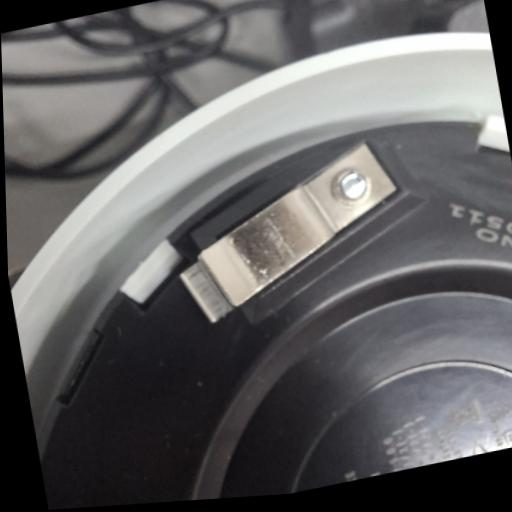yayli: (165, 135, 416, 330)
